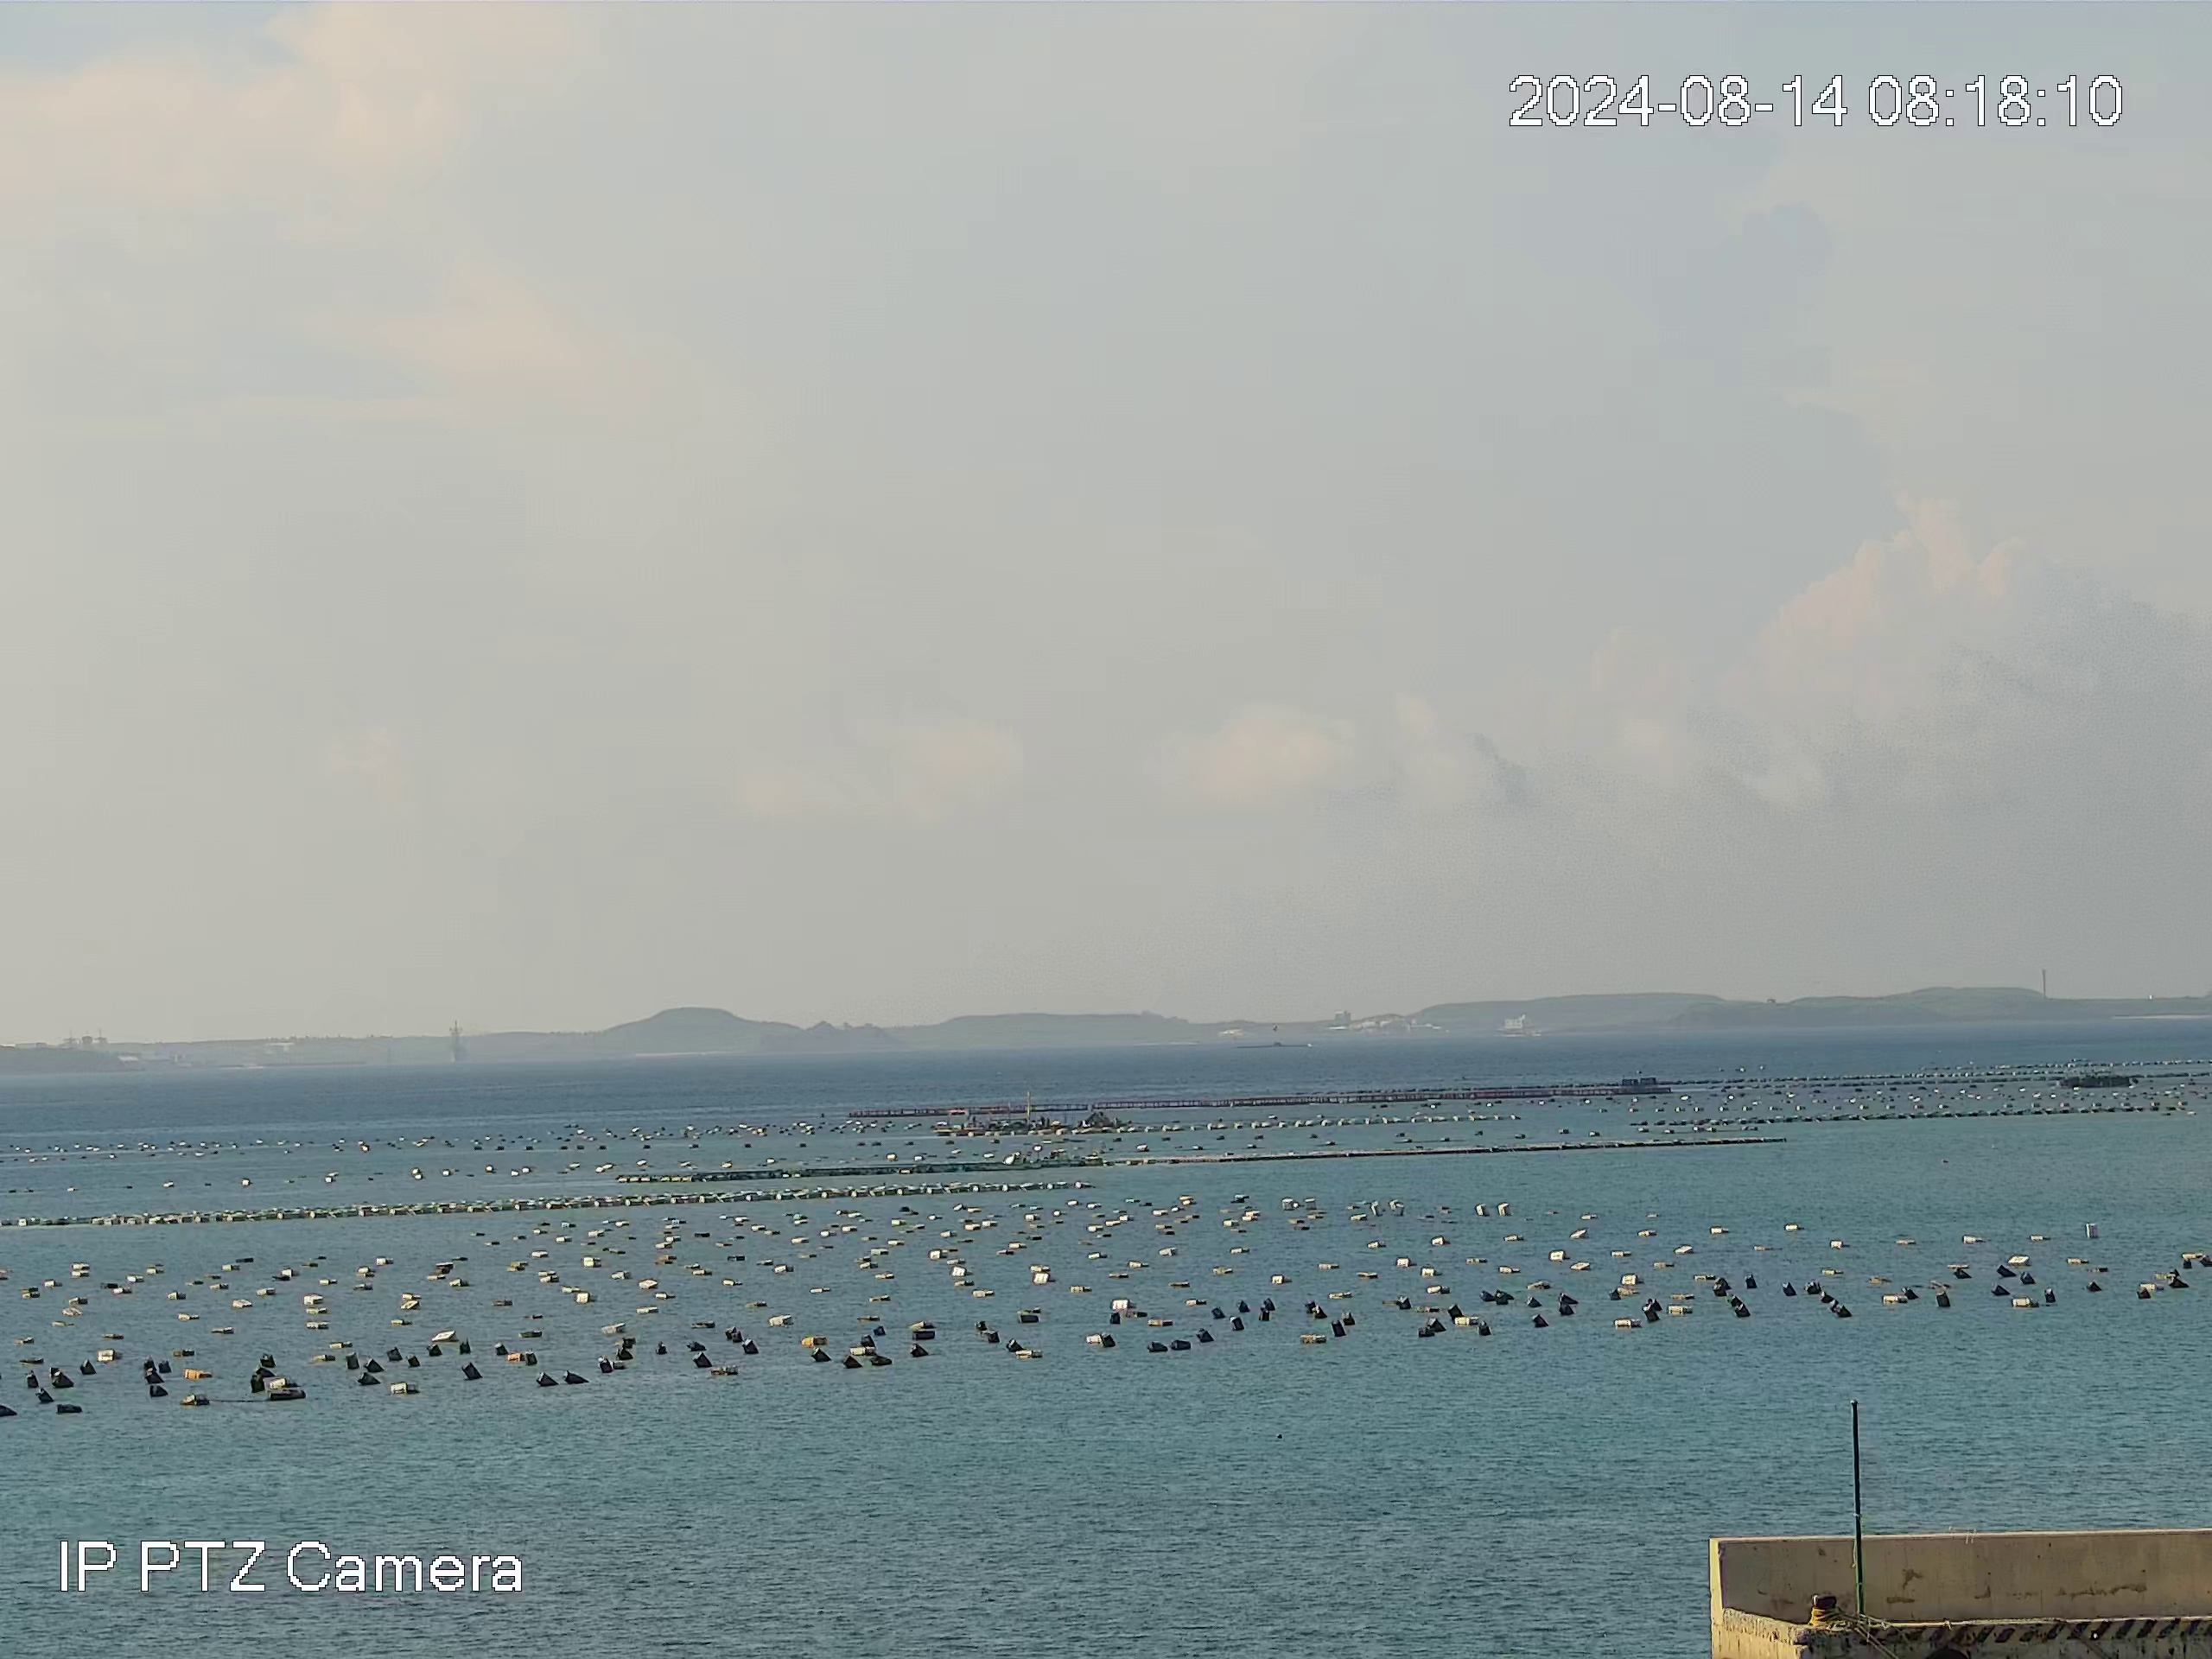boat: (2059, 1063, 2139, 1094)
